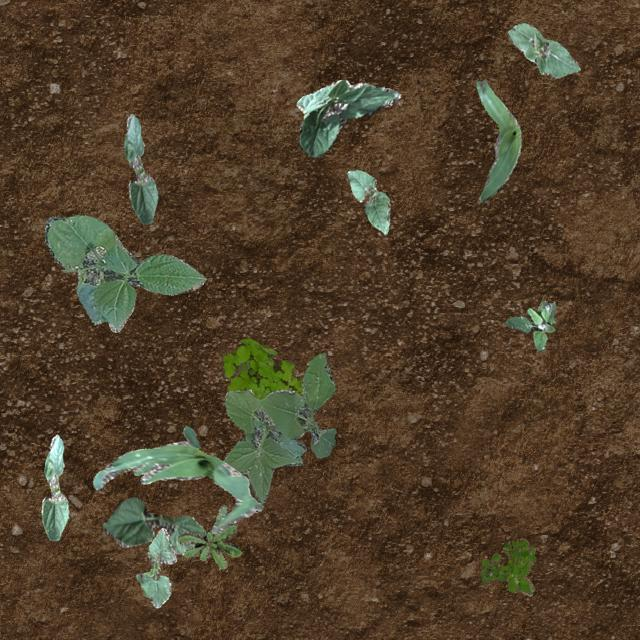crop: (44, 214, 205, 332), (92, 424, 262, 532), (296, 78, 400, 156), (101, 496, 206, 554), (474, 78, 520, 202), (506, 22, 580, 78), (124, 112, 158, 222), (134, 526, 176, 606), (344, 168, 388, 234), (41, 434, 68, 540)
weed: (222, 352, 336, 502), (220, 338, 302, 398), (177, 504, 240, 568), (480, 536, 534, 594), (504, 300, 554, 350)
